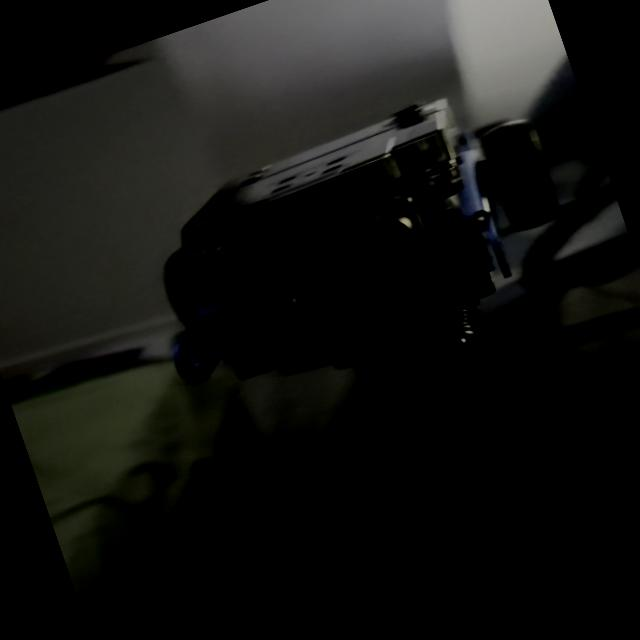mbot-detection: (110, 61, 596, 410)
